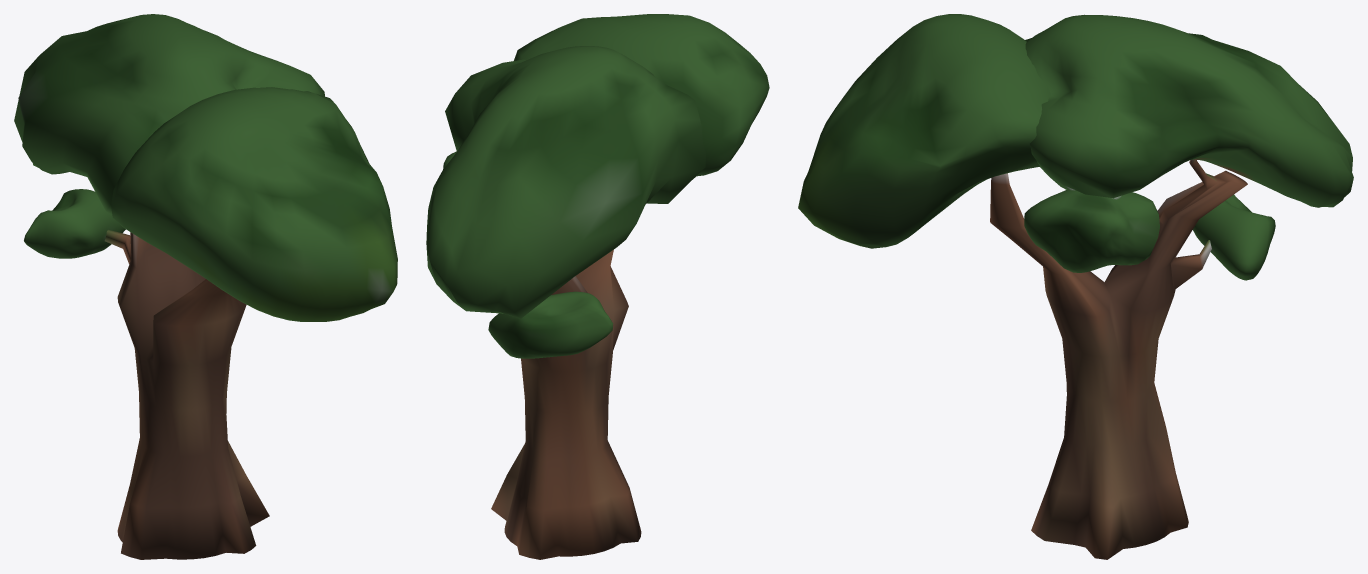
The model's file is FBX_Tree.fbx.
3 views of the same model, side by side, from view 1: azimuth 30°, elevation 25°; view 2: azimuth 150°, elevation 25°; view 3: azimuth 270°, elevation 25° (orthographic). The views are drawn at different scales.
Visible parts, largest first — view 1: FBX_Tree, FBX_Tree.001; view 2: FBX_Tree, FBX_Tree.001; view 3: FBX_Tree, FBX_Tree.001.
Boxes of the visible parts, x1,y1,x2,y2 form: FBX_Tree: [14, 14, 397, 321]; FBX_Tree.001: [104, 229, 269, 559]; FBX_Tree: [426, 14, 769, 358]; FBX_Tree.001: [491, 249, 641, 559]; FBX_Tree: [798, 14, 1353, 280]; FBX_Tree.001: [990, 159, 1247, 559].
Bounding box in the file's own units: 449 × 840 × 855.
